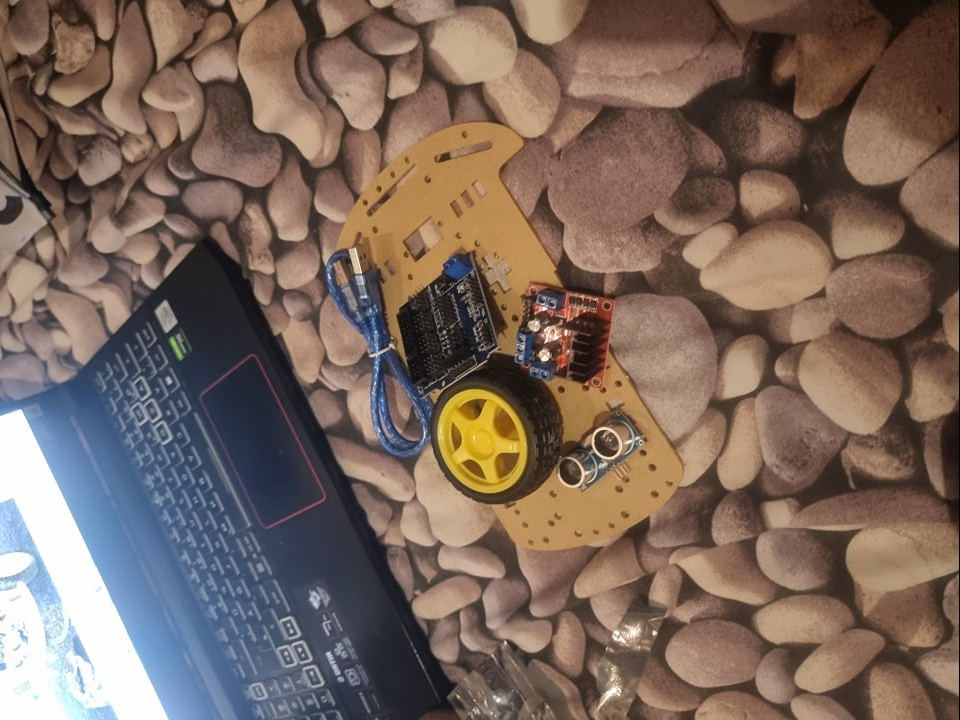5V EXPANSION: (396, 248, 500, 402)
MOTOR: (513, 278, 616, 389)
SENSOR: (552, 413, 647, 496)
